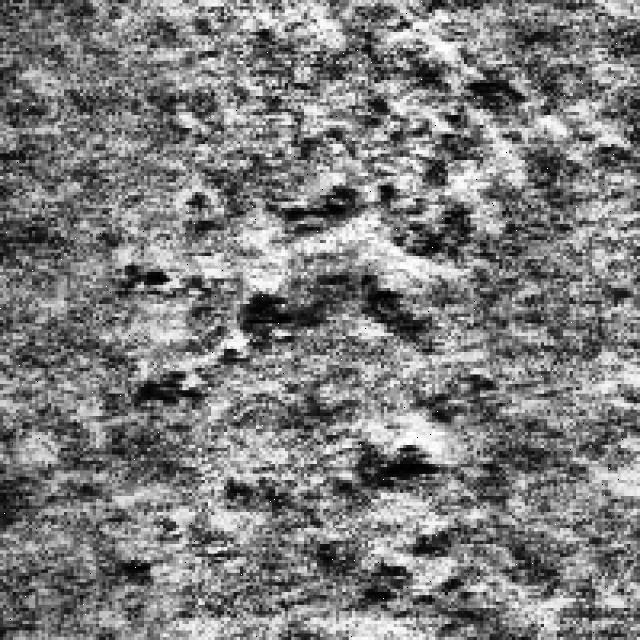Crazing: (218, 86, 464, 496)
